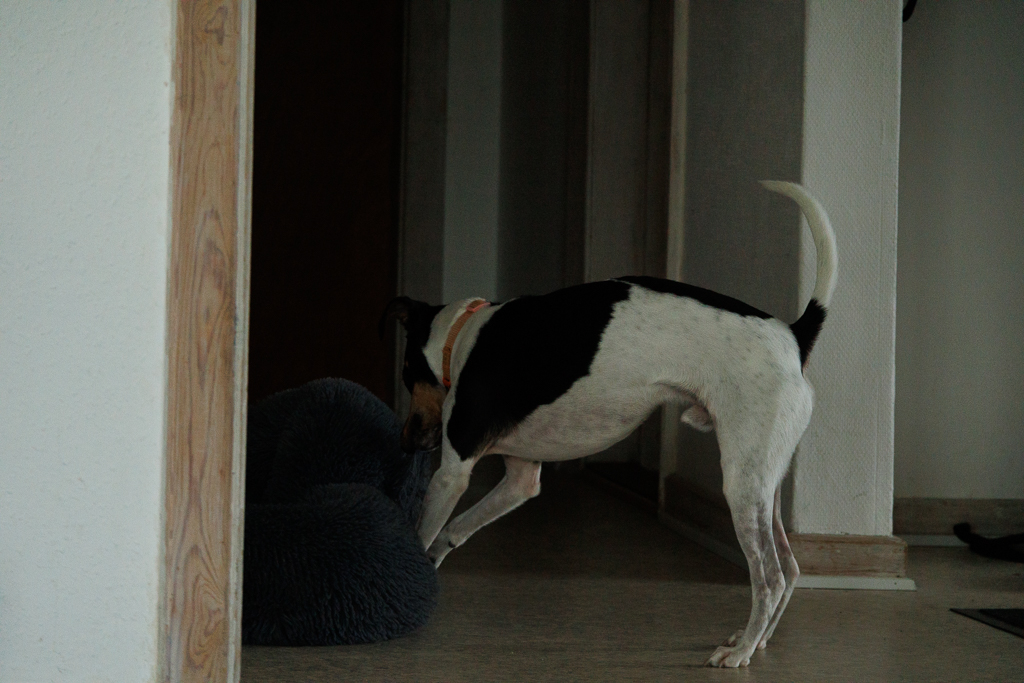Dog: (377, 176, 850, 672)
